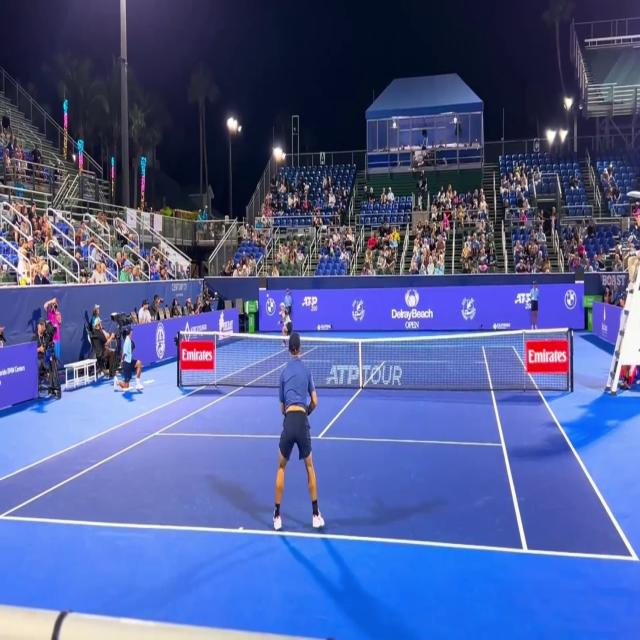tennisBall: (265, 294, 270, 302)
